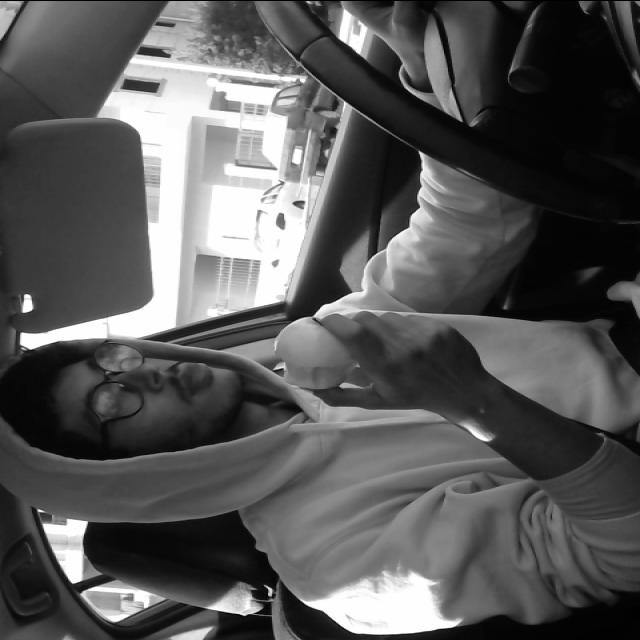eating: (267, 309, 370, 395)
